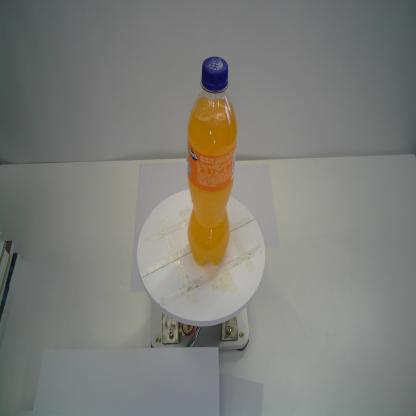Drink: (184, 54, 238, 268)
